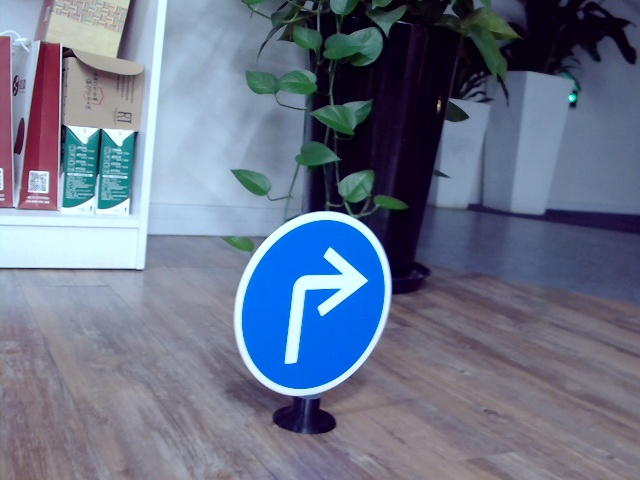turn_right: (280, 247, 363, 366)
